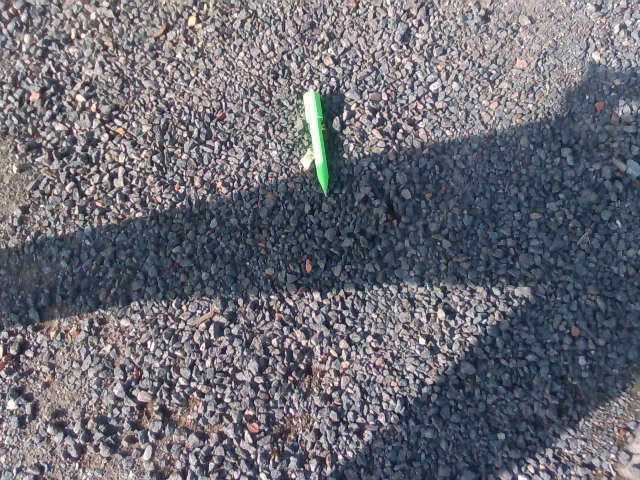Probe: (300, 88, 334, 202)
